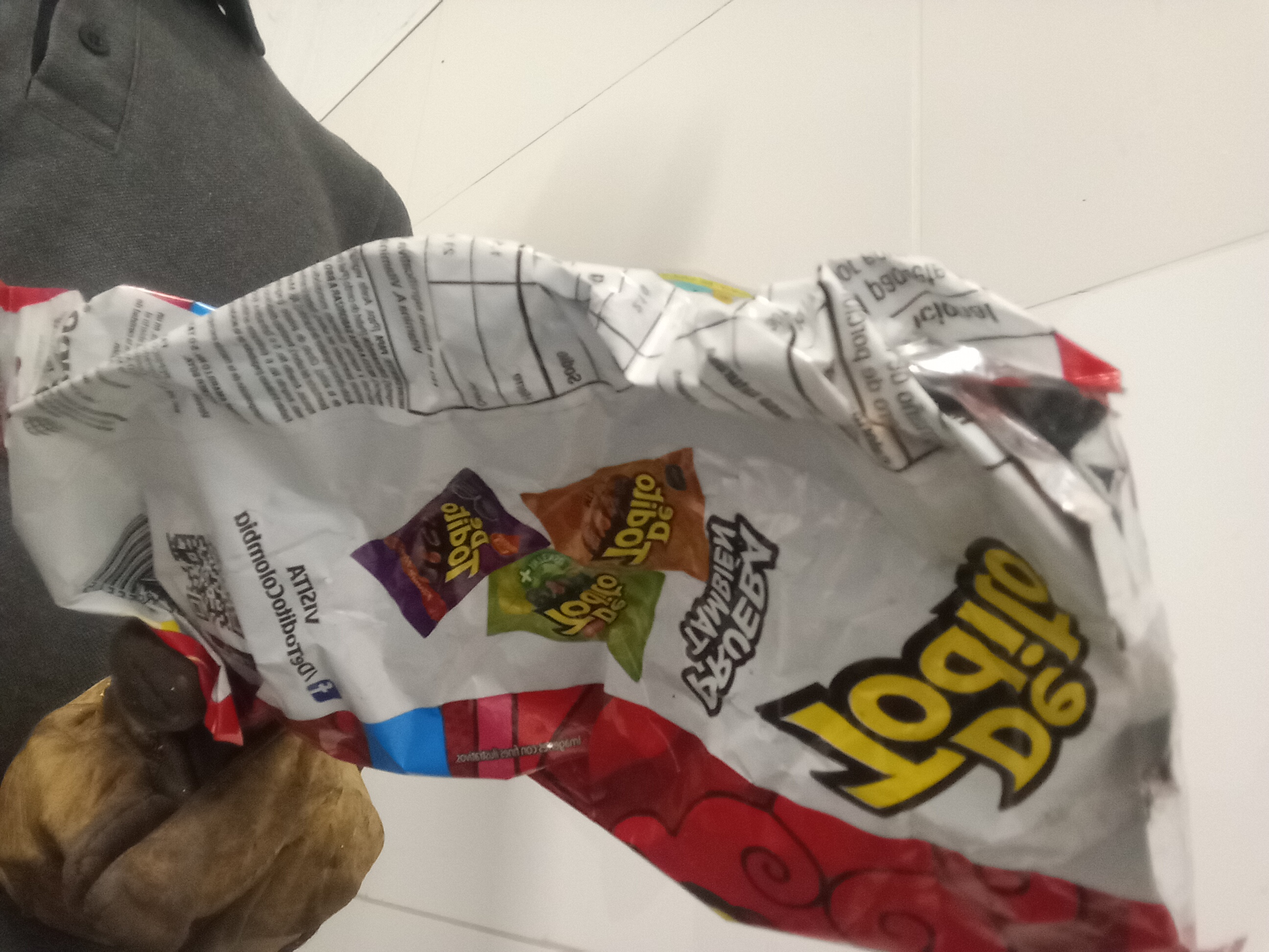Ordinario: (3, 228, 1183, 943)
